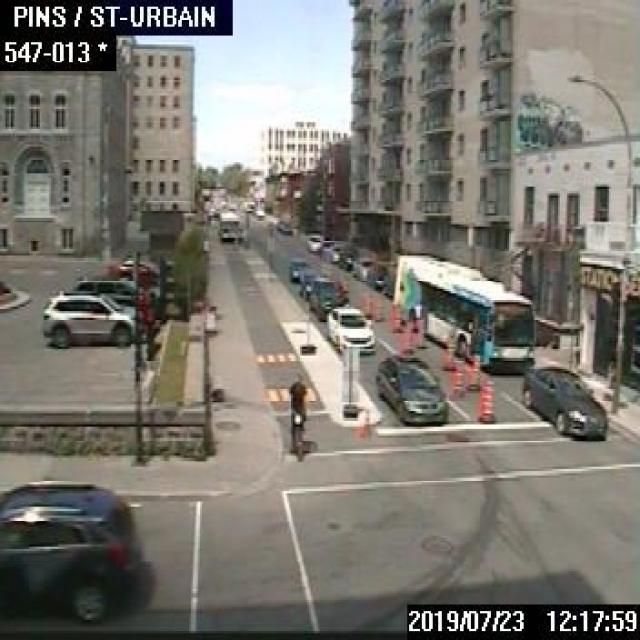bus: (393, 253, 534, 371), (217, 209, 238, 239)
construction: (478, 376, 495, 420), (465, 352, 479, 388), (442, 332, 454, 370), (399, 319, 412, 353), (451, 359, 462, 396), (414, 314, 426, 347), (389, 299, 401, 332), (363, 290, 373, 317), (373, 293, 382, 320), (341, 274, 348, 291)
cyclist: (288, 376, 308, 462)
vehicle: (0, 481, 140, 626), (522, 364, 606, 438), (42, 289, 134, 345), (374, 353, 447, 422), (72, 273, 158, 308), (324, 305, 373, 353), (306, 276, 349, 320), (108, 263, 156, 286), (298, 266, 325, 298), (368, 262, 393, 292), (117, 256, 159, 272), (351, 256, 379, 280), (286, 254, 308, 280), (321, 238, 346, 260), (339, 246, 358, 268), (305, 234, 324, 249), (278, 221, 292, 233), (252, 208, 264, 216)
